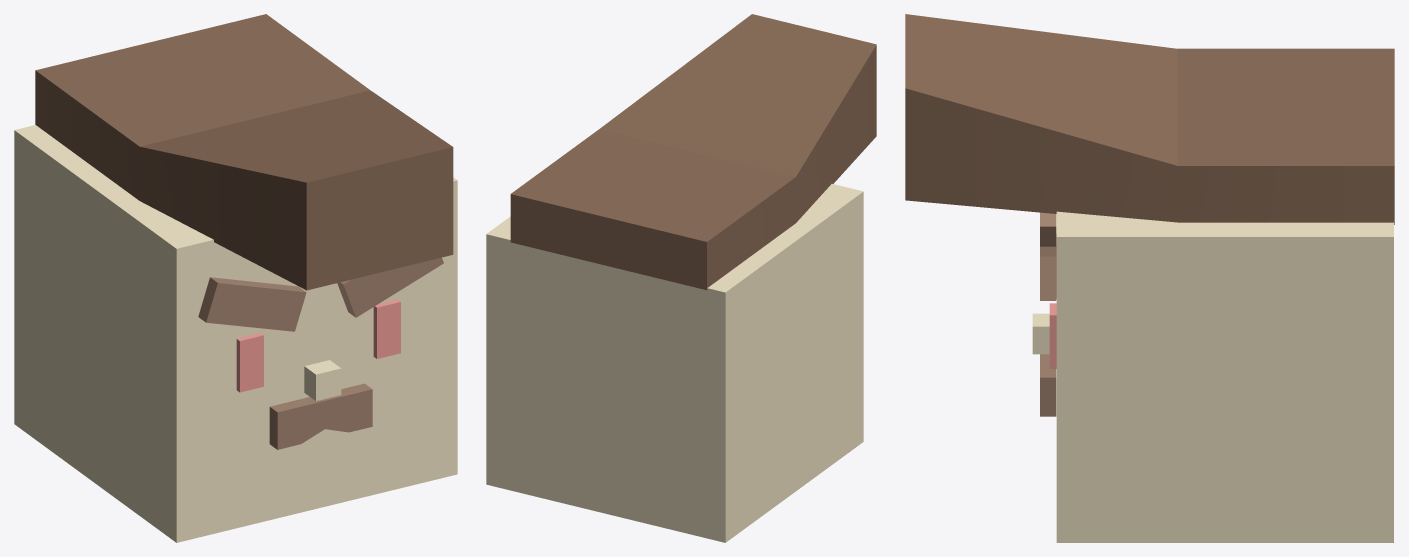
The model's file is Player.obj.
3 views of the same model, side by side, from view 1: azimuth 30°, elevation 25°; view 2: azimuth 150°, elevation 25°; view 3: azimuth 270°, elevation 25° (orthographic). The views are drawn at different scales.
Parts seen in each view (by area): view 1: Cube.002; view 2: Cube.002; view 3: Cube.002.
Part boxes in pixels (<box>): Cube.002: <box>14,14,457,542</box>; Cube.002: <box>486,14,876,542</box>; Cube.002: <box>905,14,1394,542</box>.
Bounding box in the file's own units: 2 × 2.72 × 2.9.
Materials: 1 (1 with a texture image).
